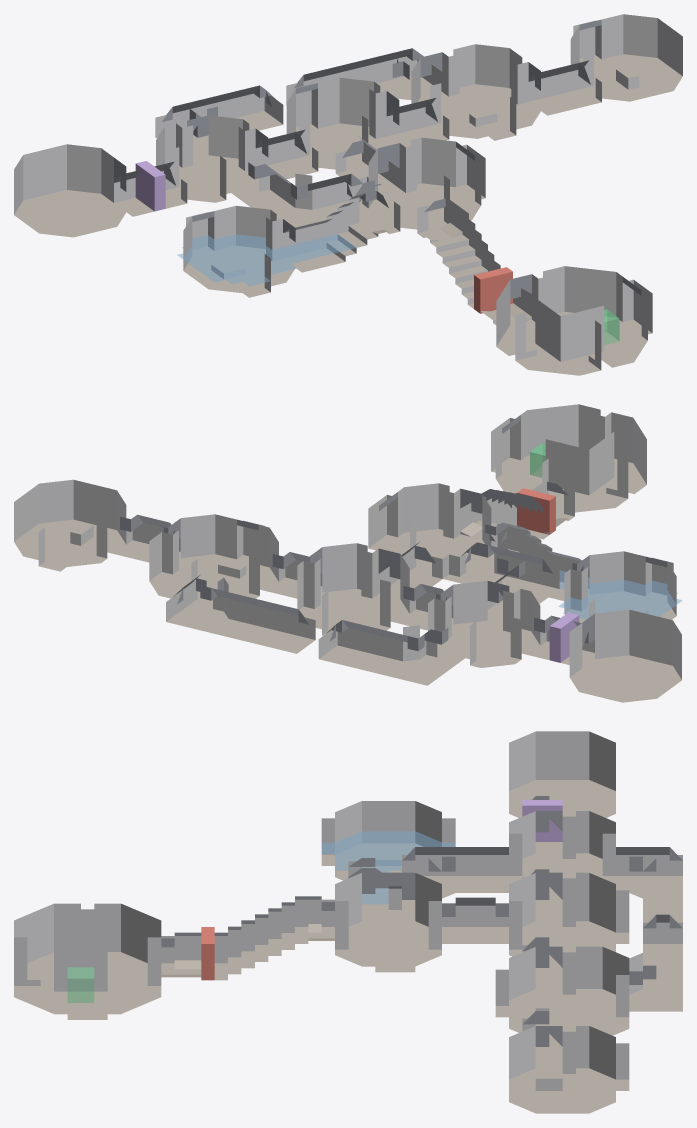
File: pod_derelict_01.glb
3 renders of one model, top to bottom at view 1: azimuth 30°, elevation 25°; view 2: azimuth 150°, elevation 25°; view 3: azimuth 270°, elevation 25°, orthographic. The views are drawn at different scales.
Parts seen in each view (by area): view 1: room:7, room:2, room:5, room:6, corridor:7, room:3, room:1, room:0, room:4, water, corridor:8, corridor:2 (+20 smaller); view 2: corridor:7, room:7, room:2, room:6, room:5, room:4, room:0, room:1, room:3, corridor:8, room:2/reactor core, water (+19 smaller); view 3: room:2, room:7, corridor:7, corridor:1, room:5, room:6, room:1, room:3, room:0, corridor:8, room:4, water (+19 smaller).
Boxes of the visible parts, x1,y1,x2,y2 form: room:7: [14, 144, 126, 237]; room:2: [496, 266, 647, 375]; room:5: [411, 44, 540, 138]; room:6: [570, 14, 682, 101]; corridor:7: [155, 48, 442, 158]; room:3: [183, 205, 295, 293]; room:1: [368, 137, 481, 230]; room:0: [286, 77, 399, 170]; room:4: [156, 115, 268, 202]; water: [177, 234, 355, 286]; corridor:8: [237, 162, 380, 227]; corridor:2: [283, 183, 400, 272]; corridor:7: [166, 574, 458, 685]; room:7: [569, 609, 681, 702]; room:2: [495, 404, 646, 513]; room:6: [14, 479, 126, 566]; room:5: [149, 514, 278, 608]; room:4: [428, 580, 540, 667]; room:0: [297, 543, 409, 630]; room:1: [379, 483, 491, 576]; room:3: [564, 551, 676, 622]; corridor:8: [442, 533, 559, 624]; room:2/reactor core: [545, 432, 614, 495]; water: [558, 570, 682, 619]; room:2: [14, 903, 161, 1014]; room:7: [509, 731, 615, 817]; corridor:7: [616, 847, 682, 1011]; corridor:1: [161, 896, 334, 980]; room:5: [509, 946, 629, 1039]; room:6: [509, 1026, 615, 1113]; room:1: [335, 872, 441, 966]; room:3: [335, 801, 441, 888]; room:0: [509, 872, 615, 966]; corridor:8: [388, 847, 508, 921]; room:4: [509, 811, 615, 898]; water: [321, 831, 455, 904].
Bounding box in the file's own units: 59 × 7 × 50.
